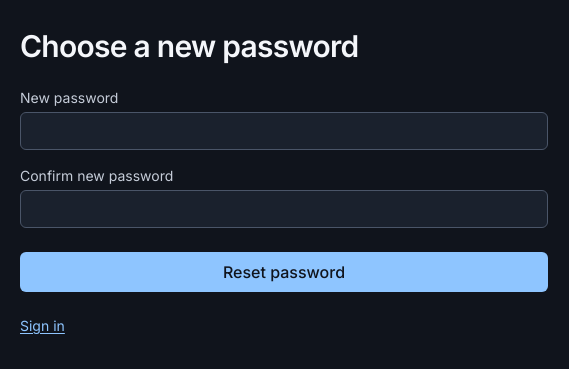
Scenario: ResetPasswordForm › shows mismatch without calling the API
Step 1. Type "correct-horse-1" into the password field labelled "New password" → (284, 131), box x1=20 y1=112 x2=548 y2=150
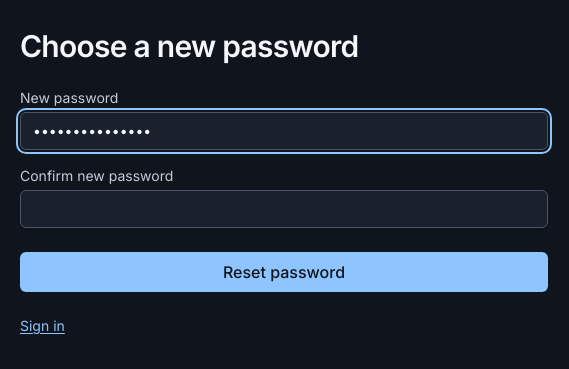
Step 2. Type "correct-horse-2" into the password field labelled "Confirm new password" → (284, 209), box x1=20 y1=190 x2=548 y2=228
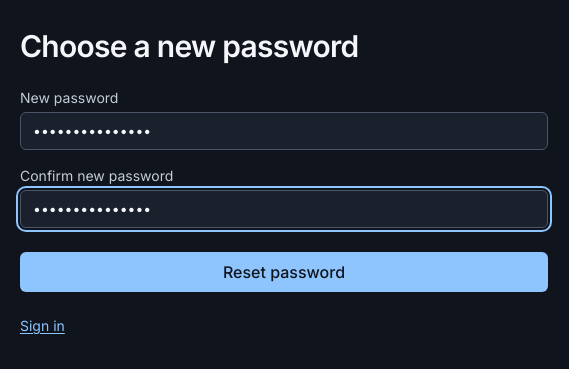
Step 3. Click the button "Reset password" → click(284, 272), box x1=20 y1=252 x2=548 y2=292
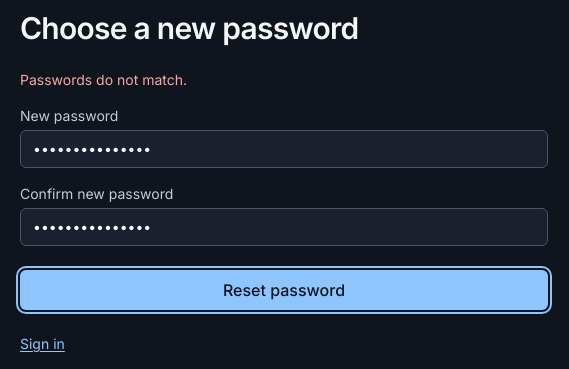
Expected: the message reads "Passwords do not match.", x1=20 y1=71 x2=187 y2=88
